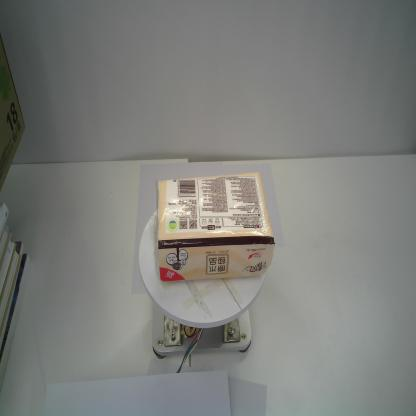Tissue: (154, 168, 276, 286)
